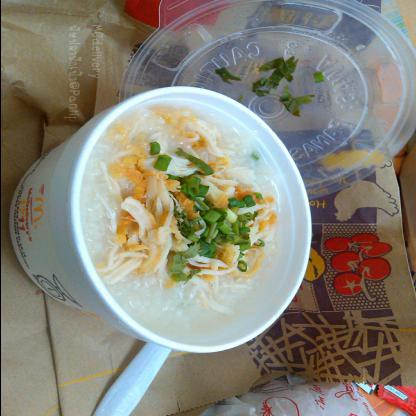Joke: (64, 104, 290, 336)
